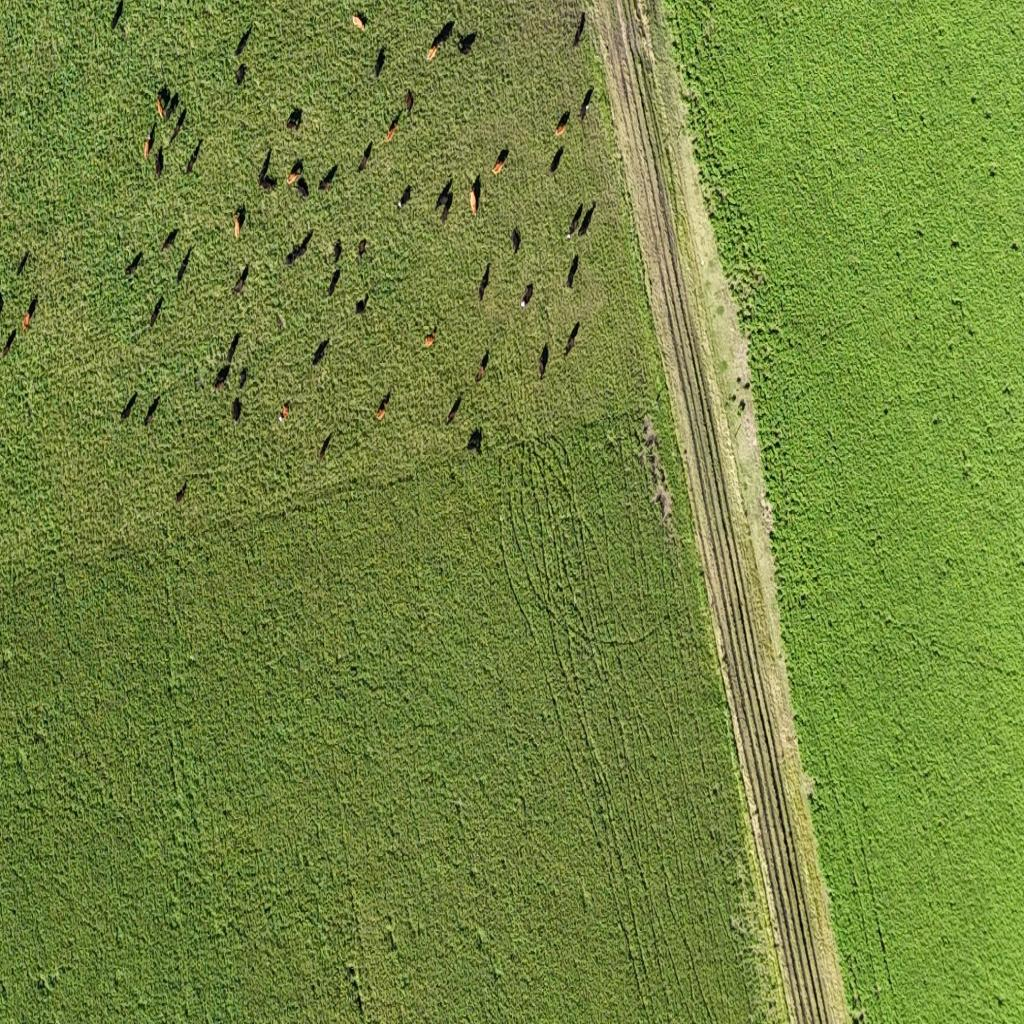cow: (286, 230, 313, 265), (257, 147, 275, 192), (236, 21, 254, 59), (566, 202, 583, 240), (170, 107, 186, 146), (434, 20, 454, 50), (186, 139, 202, 176), (176, 248, 192, 285), (565, 319, 580, 358), (231, 264, 248, 298), (579, 202, 595, 238), (232, 202, 246, 242), (319, 164, 337, 193), (226, 331, 241, 365), (23, 296, 37, 332), (213, 364, 231, 392), (446, 394, 462, 425), (144, 396, 160, 427), (120, 392, 137, 421), (124, 250, 142, 277), (311, 340, 329, 367), (478, 262, 490, 302), (156, 86, 170, 120), (579, 88, 592, 124), (573, 10, 586, 46), (145, 123, 157, 162), (318, 432, 333, 463), (554, 110, 570, 139), (493, 147, 509, 176), (150, 295, 164, 328), (566, 252, 578, 290), (458, 31, 477, 55), (469, 175, 481, 213), (1, 329, 16, 359), (549, 145, 564, 175), (357, 142, 372, 172), (288, 158, 304, 186), (439, 191, 452, 225), (376, 391, 390, 422), (374, 45, 387, 78), (162, 227, 179, 252), (326, 268, 340, 298), (538, 342, 549, 380), (110, 0, 123, 32), (286, 106, 302, 132), (386, 113, 400, 142), (467, 426, 482, 453), (396, 184, 411, 211), (478, 349, 490, 381), (17, 248, 30, 276), (521, 282, 533, 310), (330, 238, 342, 266), (232, 397, 243, 427), (295, 177, 309, 200), (154, 146, 164, 178), (166, 90, 178, 116), (277, 403, 290, 426), (510, 226, 520, 255), (176, 480, 188, 504), (235, 64, 247, 88), (355, 293, 368, 315), (424, 328, 438, 348), (405, 88, 415, 116), (352, 13, 366, 32), (238, 366, 248, 392), (357, 238, 367, 259), (276, 311, 286, 331), (316, 446, 326, 464)
